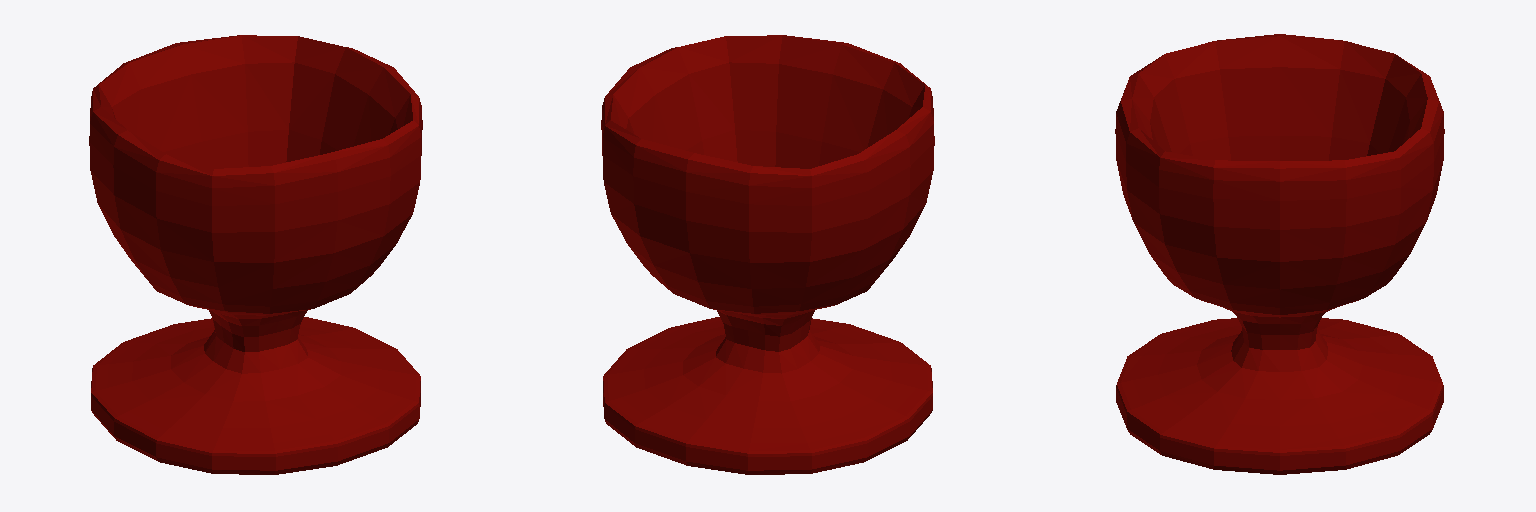
The model's file is cup.obj.
3 views of the same model, side by side, from view 1: azimuth 30°, elevation 25°; view 2: azimuth 150°, elevation 25°; view 3: azimuth 270°, elevation 25° (orthographic).
Parts seen in each view (by area): view 1: Cube; view 2: Cube; view 3: Cube.
Boxes of the visible parts, x1=… form: Cube: x1=89, y1=35, x2=422, y2=474; Cube: x1=601, y1=35, x2=934, y2=474; Cube: x1=1115, y1=34, x2=1444, y2=474.
Size of the model in its own units: 1.85 by 1.95 by 1.85.